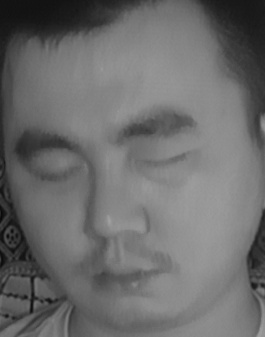blink: (139, 142, 193, 179), (34, 155, 85, 191)
mouth: (82, 252, 166, 307)
